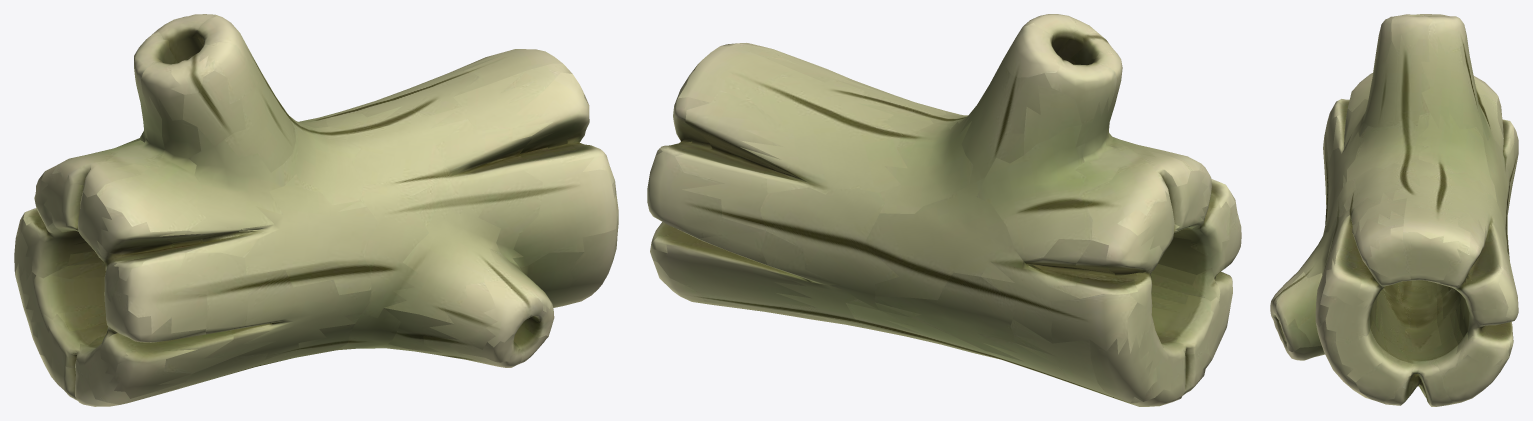
Rendered from la_tronco.glb.
3 views of the same model, side by side, from view 1: azimuth 30°, elevation 25°; view 2: azimuth 150°, elevation 25°; view 3: azimuth 270°, elevation 25° (orthographic). The views are drawn at different scales.
Size of the model in its own units: 1 by 0.6816 by 0.5703.
1 material, 1 textured.
